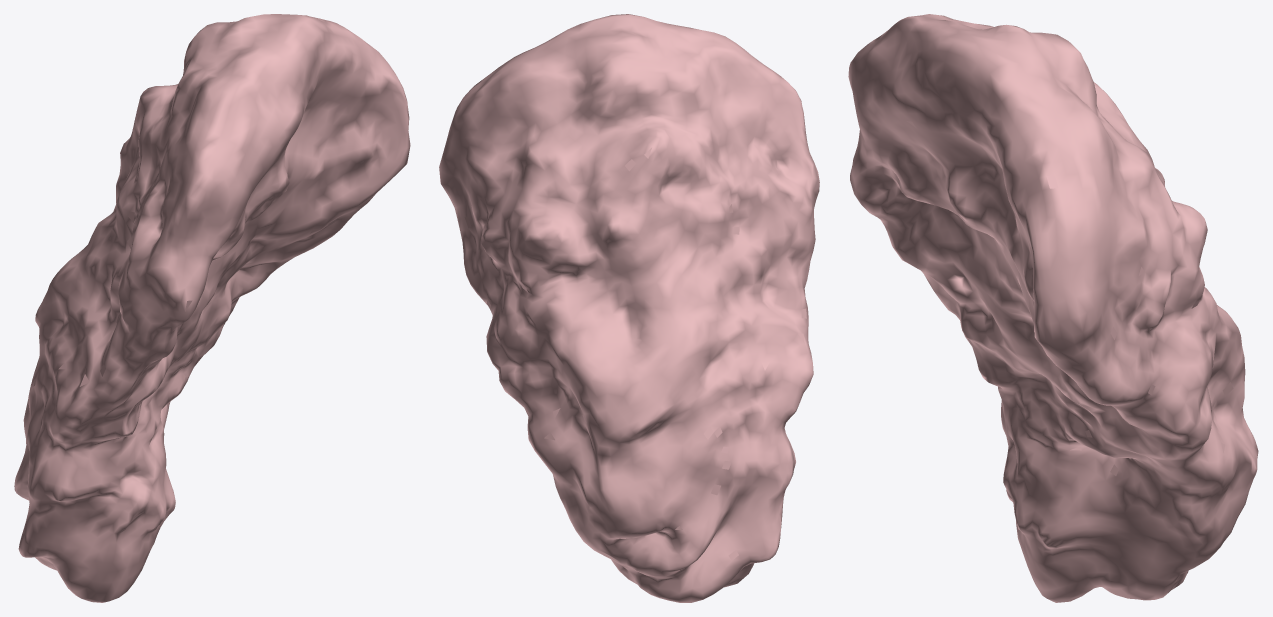
The picture shows the model from 3 angles, left to right: view 1: azimuth 30°, elevation 25°; view 2: azimuth 150°, elevation 25°; view 3: azimuth 270°, elevation 25°; orthographic projection. The views are drawn at different scales.
Visible parts, largest first — view 1: VH_F_palatine_tonsil_R; view 2: VH_F_palatine_tonsil_R; view 3: VH_F_palatine_tonsil_R.
Boxes of the visible parts, <box> form: VH_F_palatine_tonsil_R: <box>14,14,410,602</box>; VH_F_palatine_tonsil_R: <box>439,14,819,602</box>; VH_F_palatine_tonsil_R: <box>848,14,1258,602</box>.
Bounding box in the file's own units: 0.0168 × 0.0239 × 0.0139.
